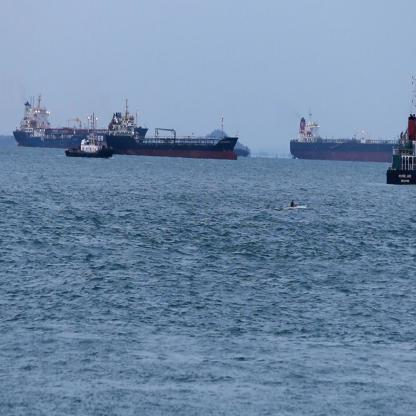Container Ship: (106, 98, 238, 161), (289, 107, 400, 163), (11, 94, 108, 151), (232, 145, 250, 158)
